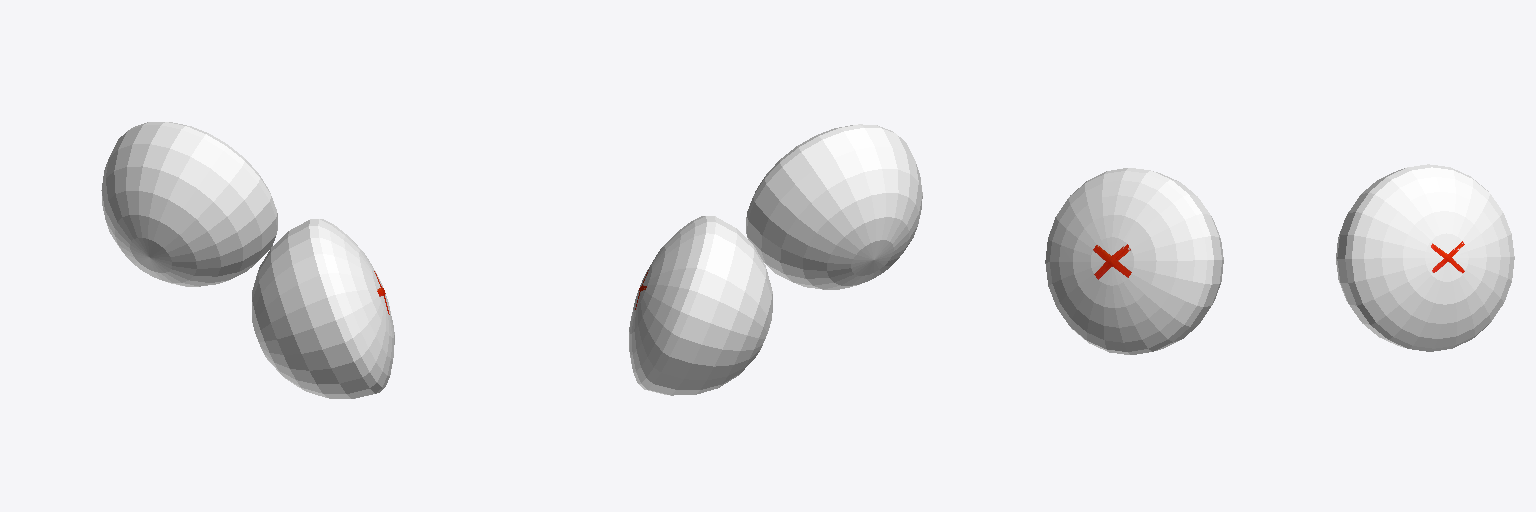
3 renders of one model, left to right at view 1: azimuth 30°, elevation 25°; view 2: azimuth 150°, elevation 25°; view 3: azimuth 270°, elevation 25°, orthographic.
Parts seen in each view (by area): view 1: ojos; view 2: ojos; view 3: ojos.
Part boxes in pixels (left/top/right/bottom): ojos: left=101, top=122, right=394, bottom=398; ojos: left=629, top=124, right=922, bottom=395; ojos: left=1045, top=164, right=1514, bottom=354.
Bounding box in the file's own units: 0.1487 × 0.176 × 0.4503.
1 materials, 1 textured.